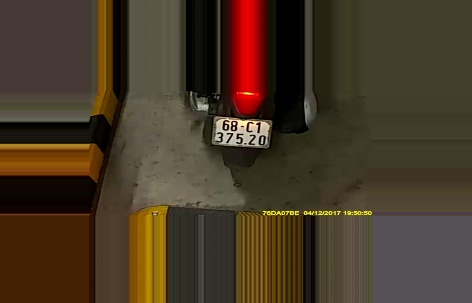plate: (212, 114, 271, 150)
